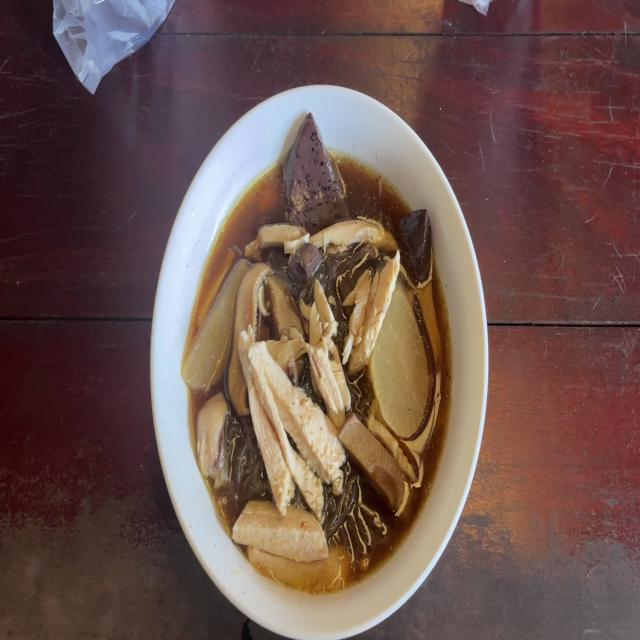noodle: (288, 116, 340, 221), (396, 200, 438, 279), (291, 244, 316, 277)
